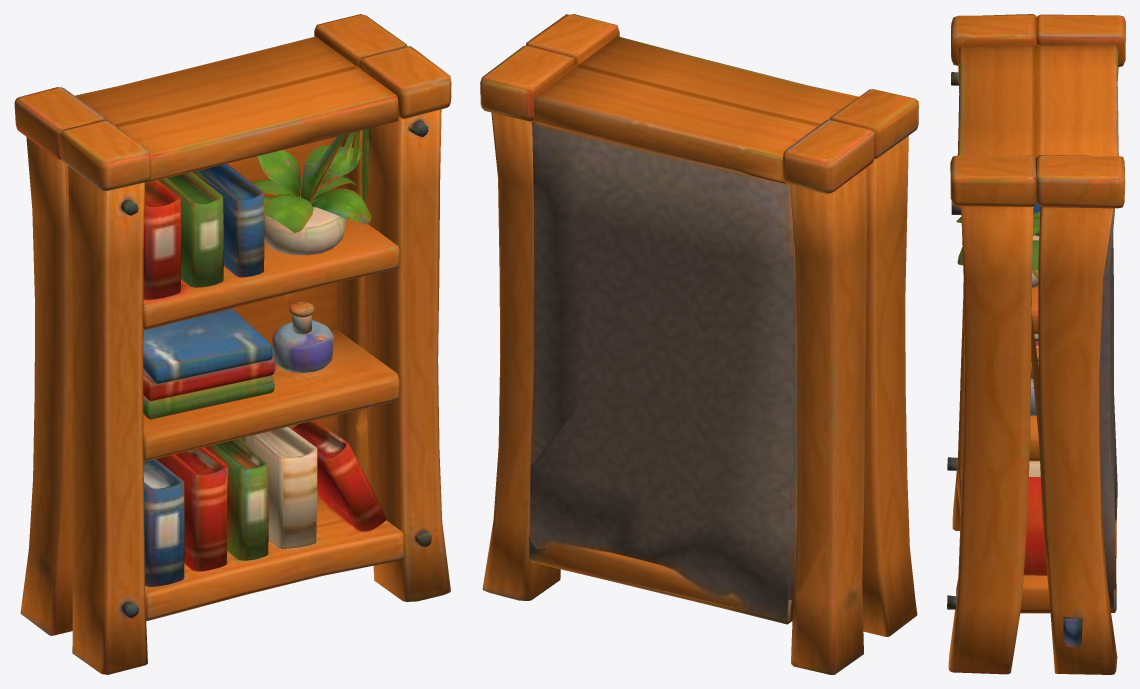
The model's file is bookshelf.glb.
3 renders of one model, left to right at view 1: azimuth 30°, elevation 25°; view 2: azimuth 150°, elevation 25°; view 3: azimuth 270°, elevation 25°, orthographic. The views are drawn at different scales.
Bounding box in the file's own units: 0.7293 × 1 × 0.327.
1 material, 1 textured.
